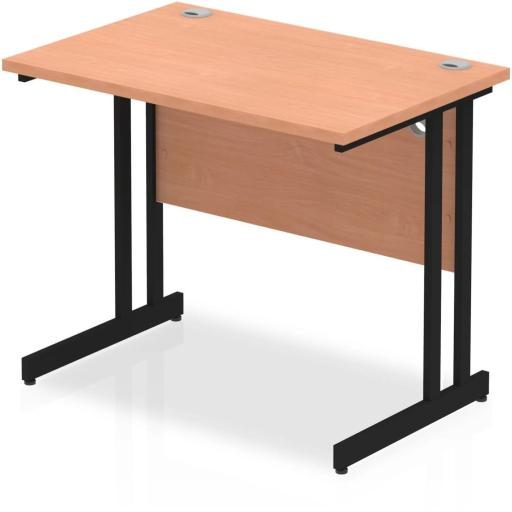table: (1, 0, 512, 451)
